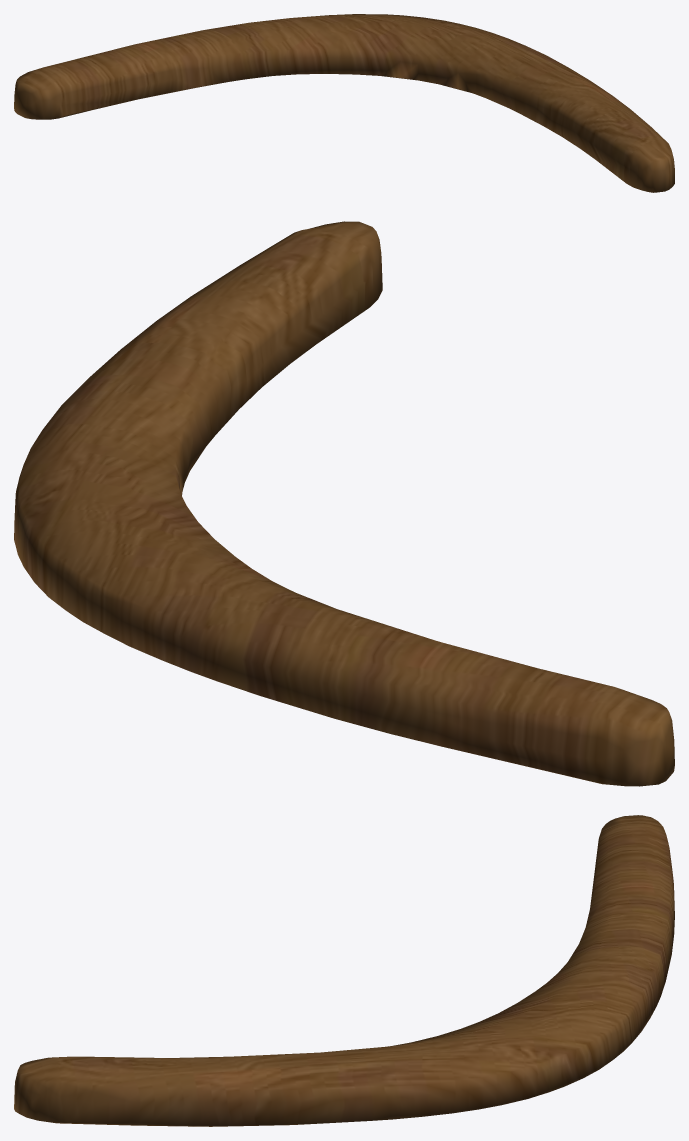
The model's file is boomerang.obj.
The picture shows the model from 3 angles, top to bottom: view 1: azimuth 30°, elevation 25°; view 2: azimuth 150°, elevation 25°; view 3: azimuth 270°, elevation 25°; orthographic projection. The views are drawn at different scales.
Visible parts, largest first — view 1: uploads_files_4883485_OBJ; view 2: uploads_files_4883485_OBJ; view 3: uploads_files_4883485_OBJ.
Part boxes in pixels (x1,y1,x2,y2): uploads_files_4883485_OBJ: (14,14,674,192); uploads_files_4883485_OBJ: (14,221,674,786); uploads_files_4883485_OBJ: (14,815,674,1126).
Bounding box in the file's own units: 2.63 × 0.2491 × 2.65.
Materials: 1 (1 with a texture image).
